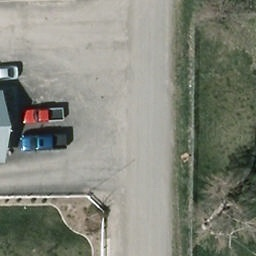car: (0, 63, 19, 82)
pickup: (19, 133, 72, 152), (17, 104, 66, 123)
